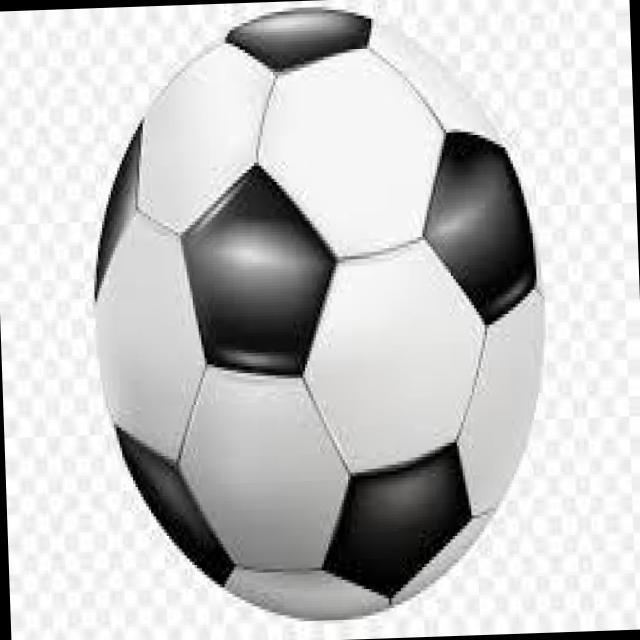Soccer Ball: (78, 2, 550, 631)
